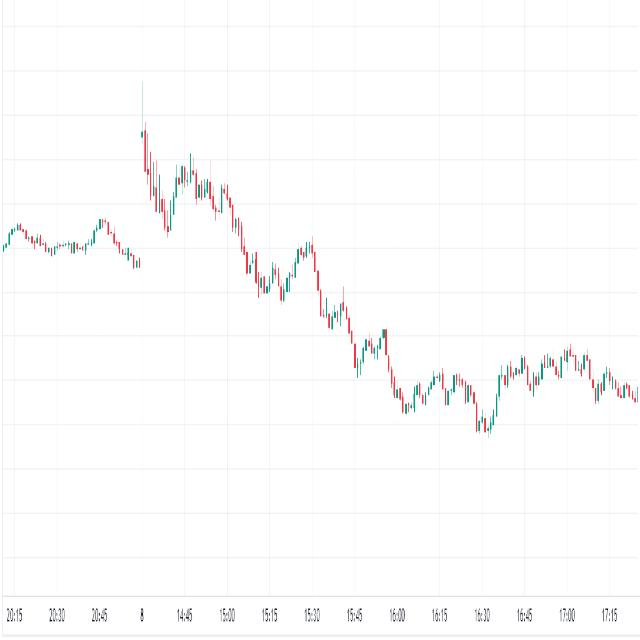Channel-down: (132, 100, 522, 522)
